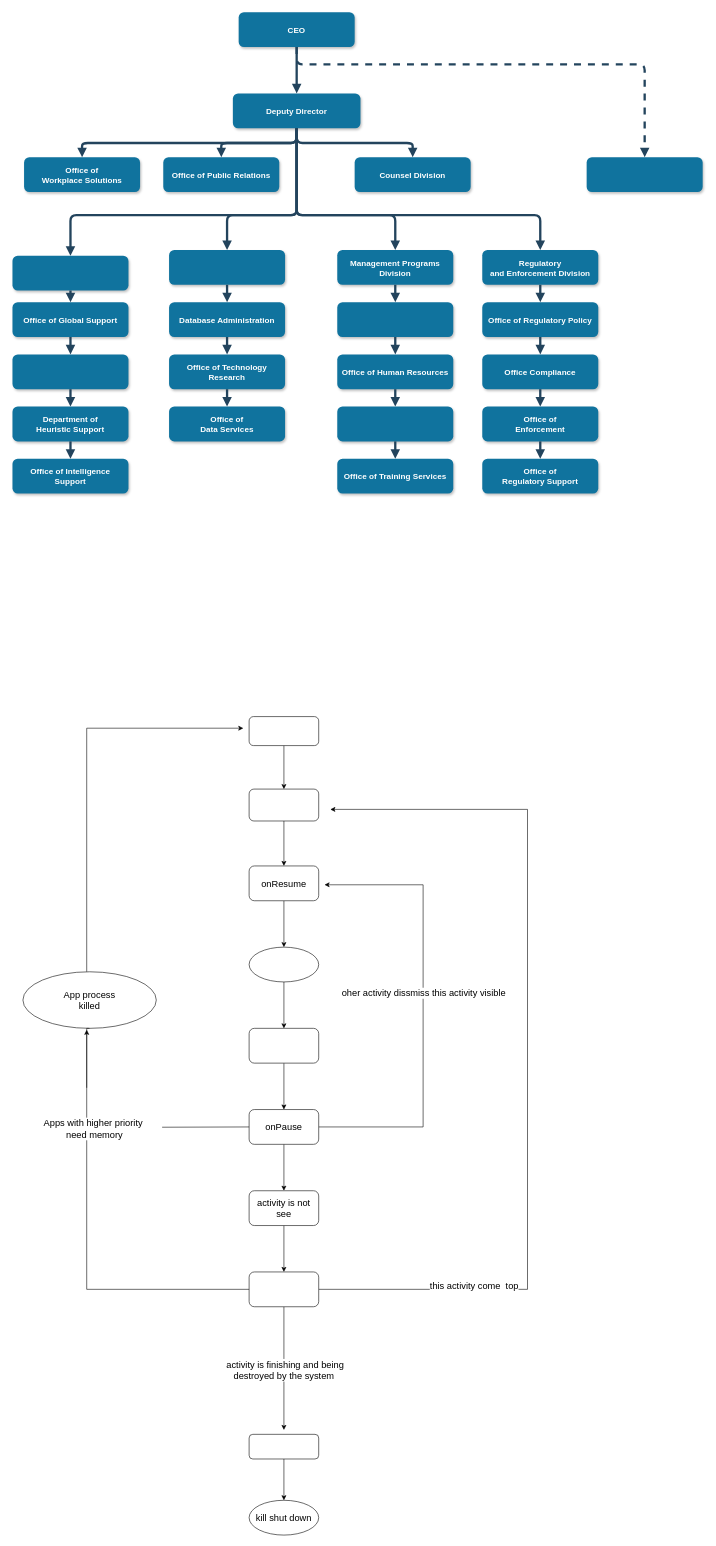
Some shapes in this 716 by 1546 pixel diagram are drawn without their labels. Each missing label, with the centre of its shape:
activity runing: pixel 284 964
activity runing into this activity top: pixel 284 1045
Analysis Division: pixel 71 273
Cooperation: pixel 645 175
IT Division: pixel 227 268
Office of Backtrack Analysis: pixel 71 372
Office of Financial Management: pixel 395 320
Office of Management: pixel 395 424
onCreate: pixel 284 731
onDestory: pixel 284 1446
onStart: pixel 284 805
onStop: pixel 284 1289
